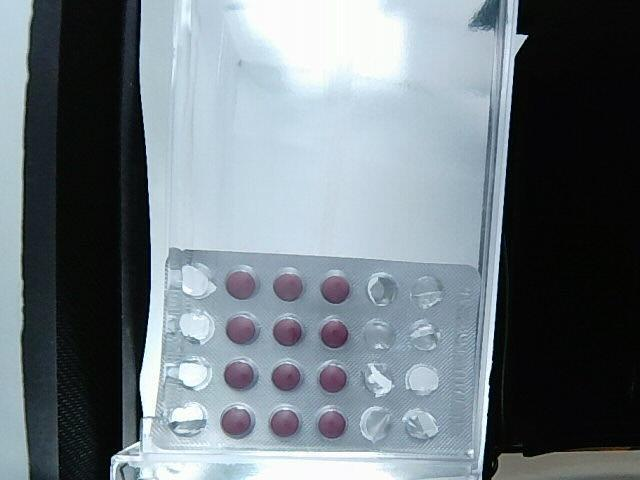Light Front: (150, 248, 483, 460)
No Pill Front: (173, 358, 211, 391), (168, 403, 206, 436), (181, 264, 216, 298), (179, 310, 214, 344), (363, 363, 395, 398), (360, 406, 391, 442), (403, 409, 439, 439), (406, 319, 439, 351), (411, 275, 442, 309), (405, 364, 438, 395), (368, 273, 398, 306), (364, 319, 395, 350)
Pill Front: (220, 404, 255, 438), (225, 265, 258, 299), (273, 268, 305, 301), (225, 314, 260, 344), (224, 359, 259, 389), (273, 314, 305, 345), (271, 359, 303, 390), (320, 270, 350, 303), (316, 406, 347, 437), (270, 405, 301, 436), (318, 361, 348, 392), (320, 318, 348, 348)
